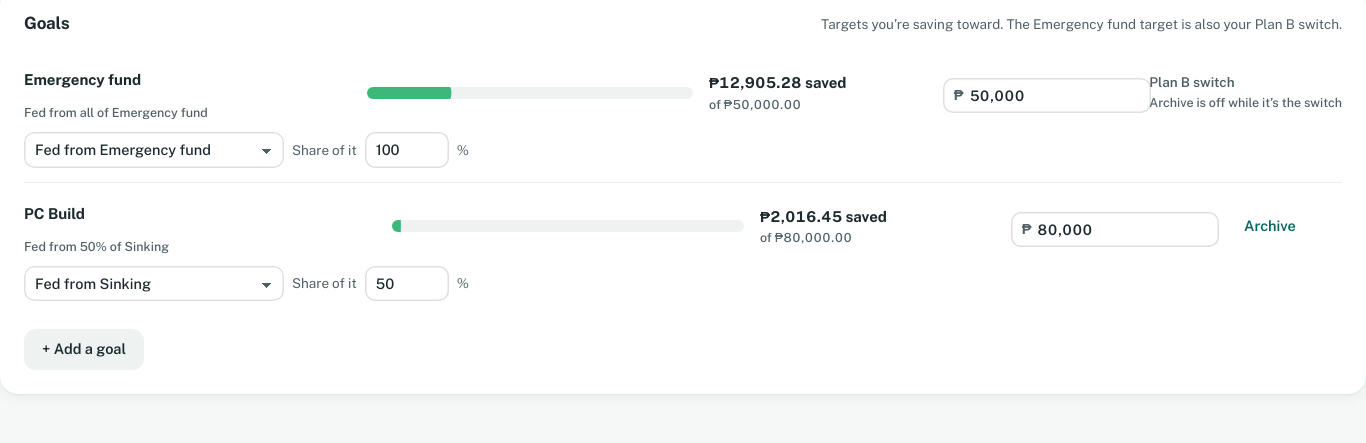
Test case: GoalsPanel › when a retarget fails the previous value comes back
Step 1. Replace the text in the field named "PC Build target" in the row of "Fed from 50% of Sinking" with "1,000" → (1123, 229), box [1037, 212, 1208, 247]
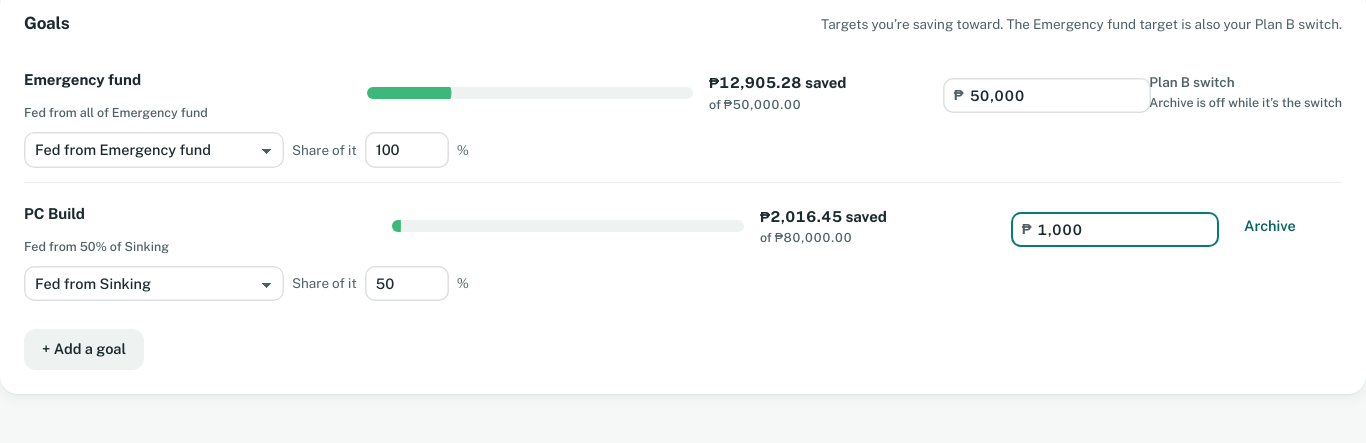
Step 2. Press Tab
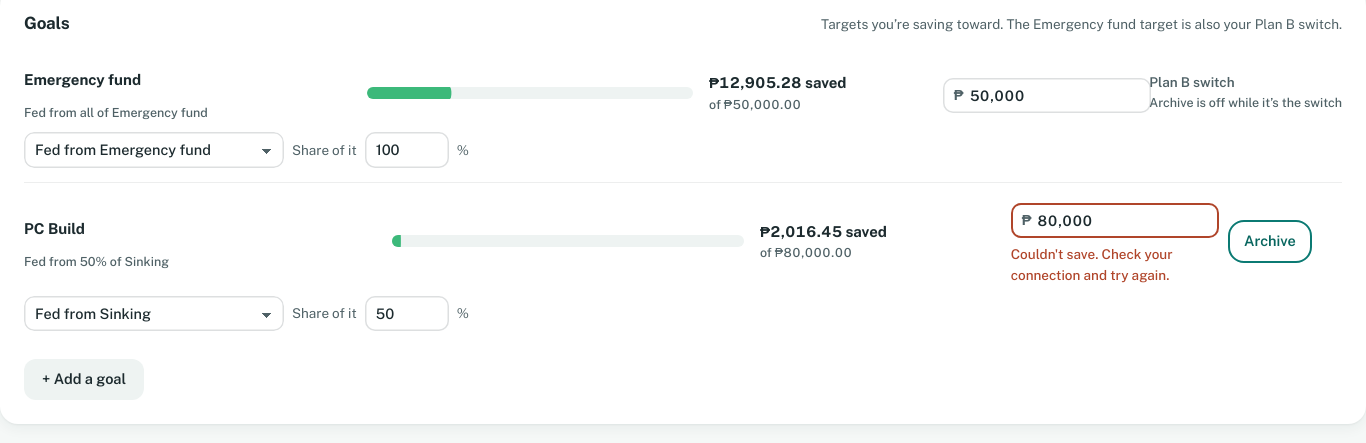
expect the text "Couldn't save. Check your connection and try again." is shown: met, box [1011, 246, 1173, 283]
expect the field named "PC Build target" in the row of "₱2,016.45" holds "80,000": met, box [1037, 203, 1208, 238]
